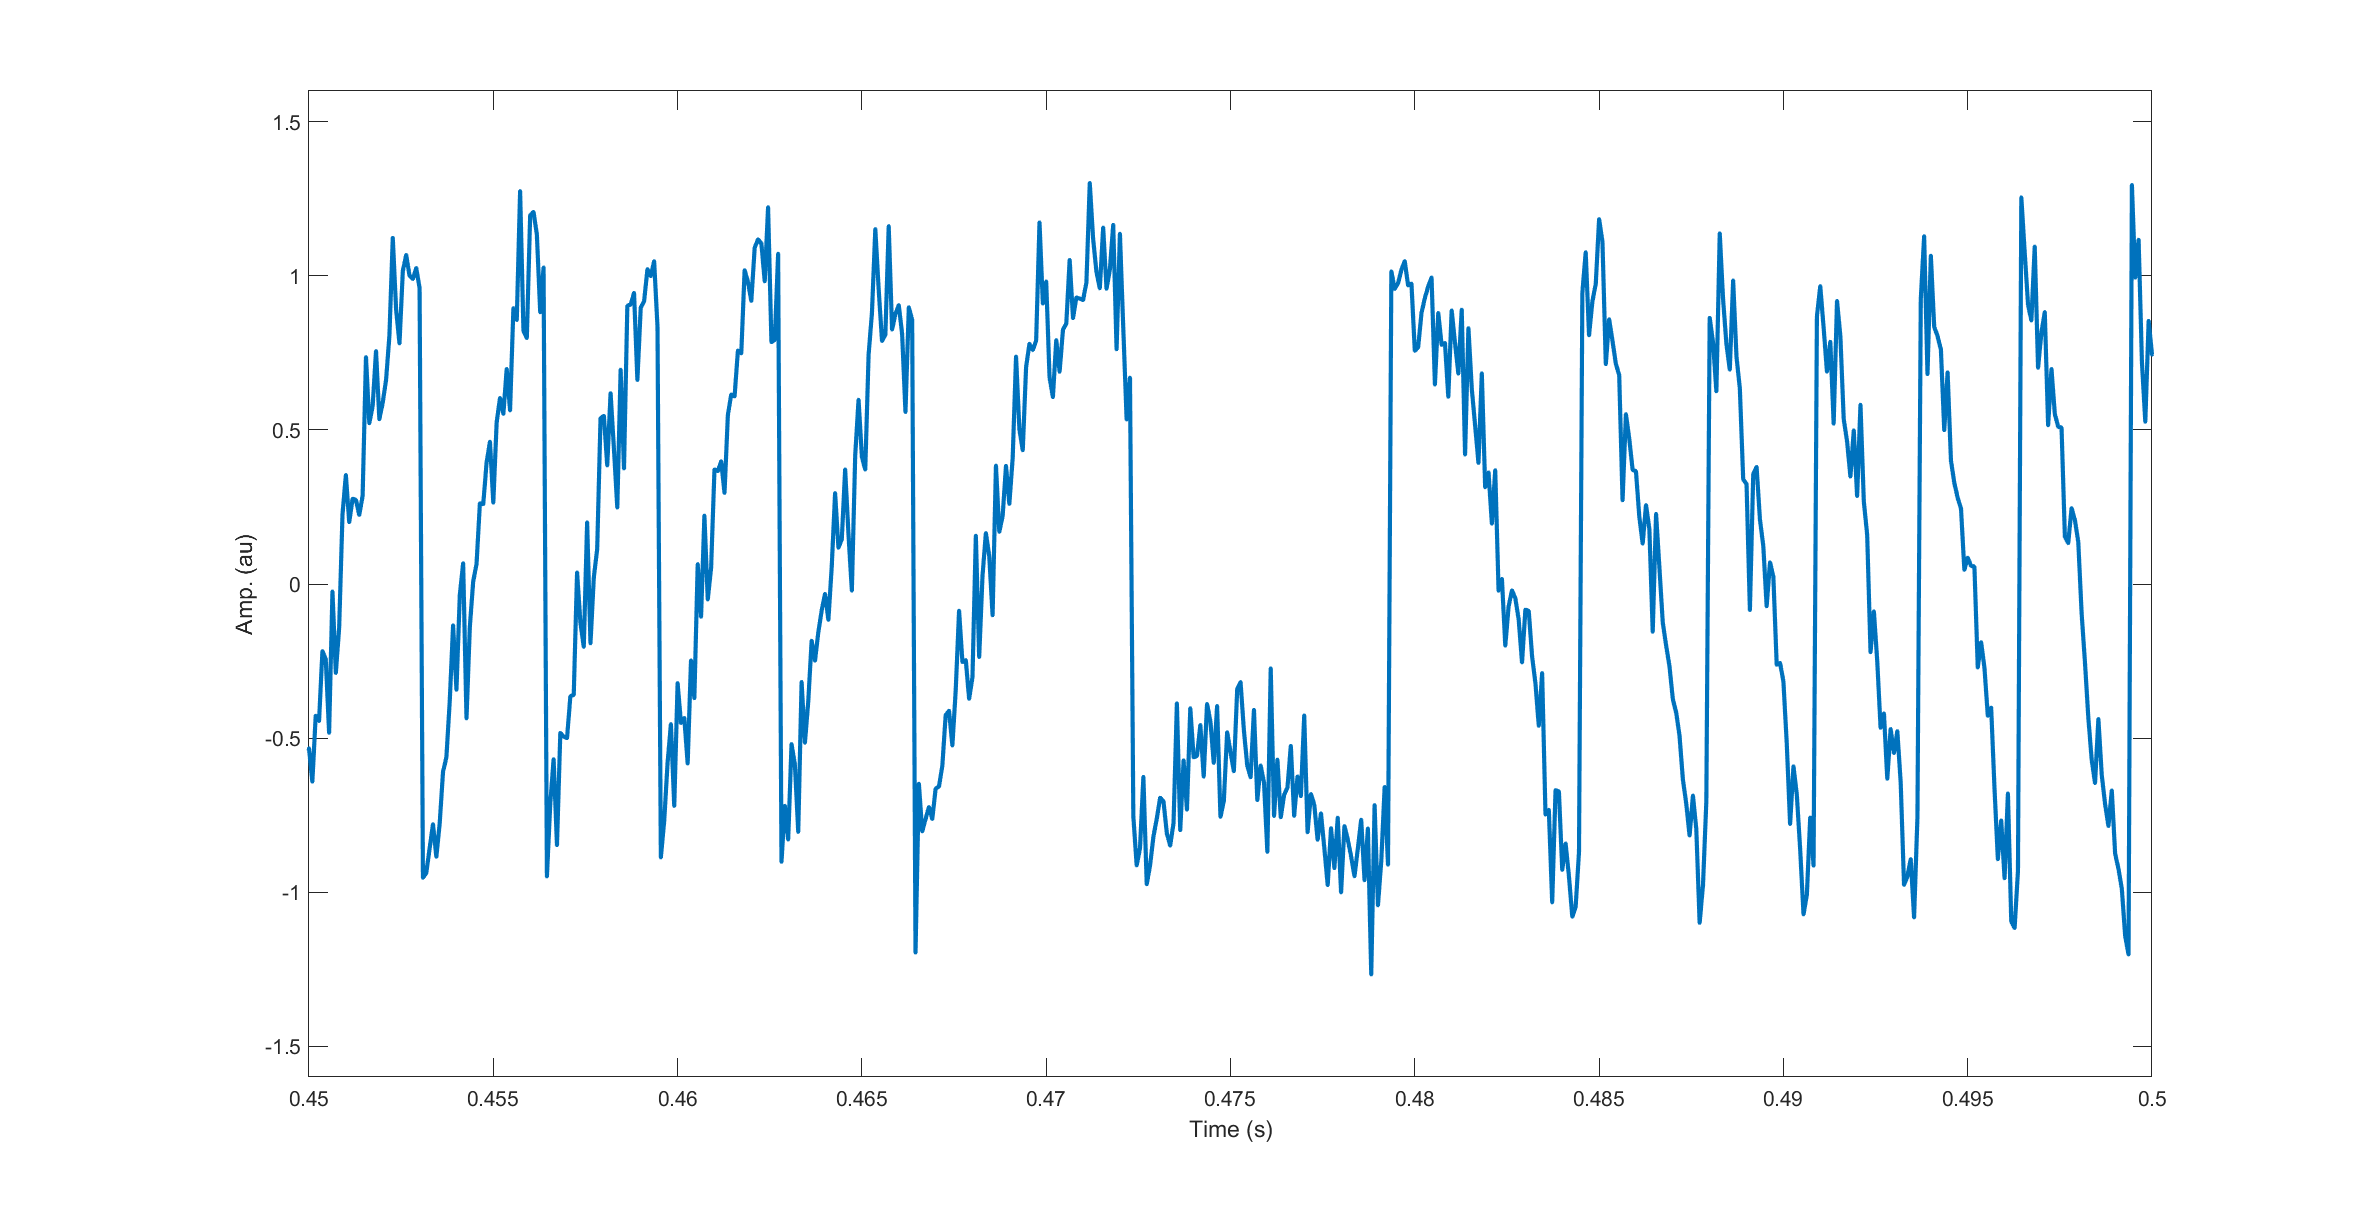negative_fringe: (1373, 248, 1557, 898), (1568, 198, 1693, 900), (2008, 187, 2116, 924), (1694, 222, 1801, 907), (1906, 225, 2003, 911), (1809, 265, 1901, 903)
positive_fringe: (952, 167, 1143, 881), (799, 211, 927, 962), (438, 184, 552, 874), (677, 193, 789, 863), (556, 265, 670, 870), (330, 225, 431, 877)
